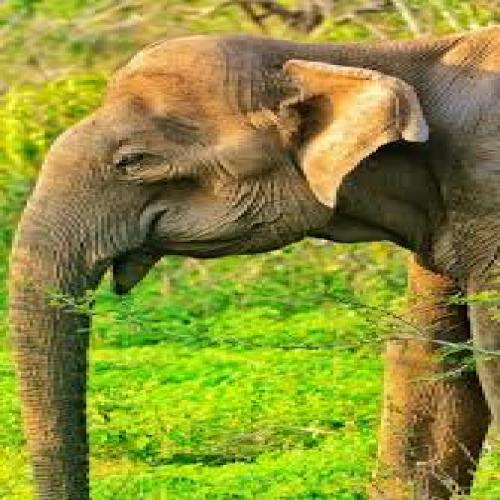asian_elephant-endangered: (7, 27, 500, 500)
